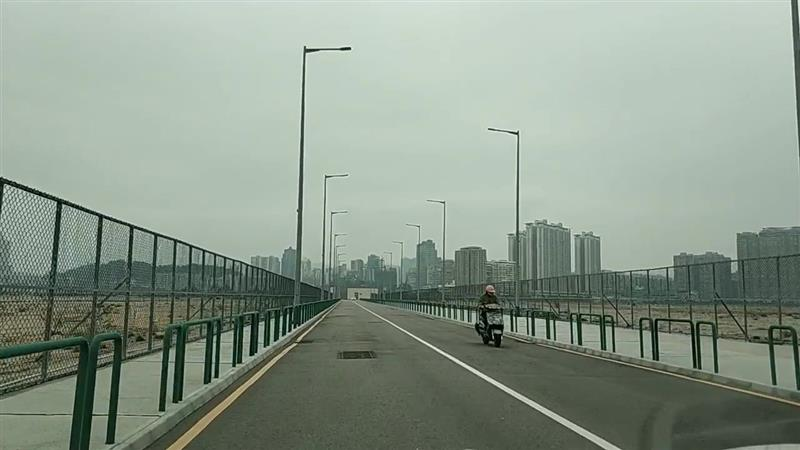motorcycle: (474, 282, 506, 346)
